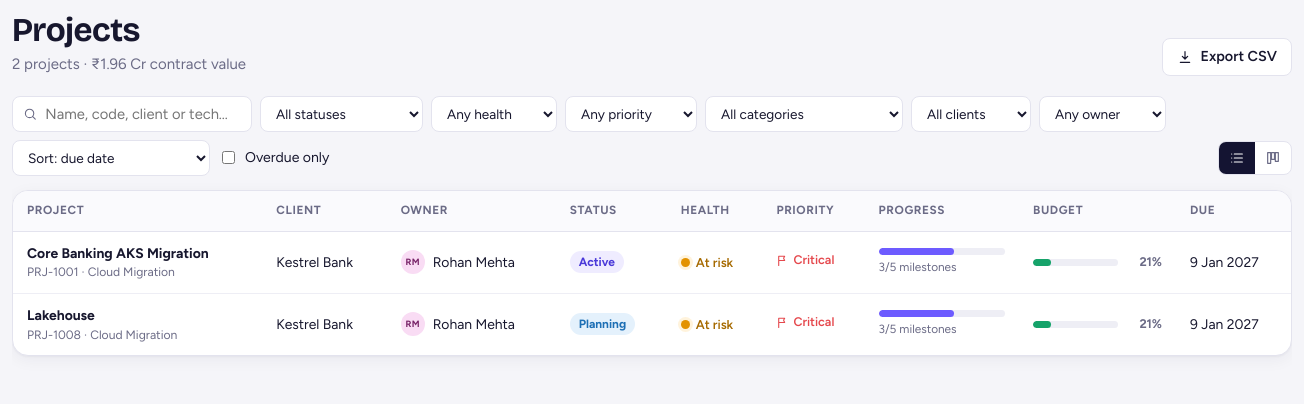
Test case: projects list › board view groups by status
The width and height of the screenshot is (1304, 404).
Click the button named "Board view".
click(1273, 158)  # box left=1255, top=142, right=1291, bottom=174
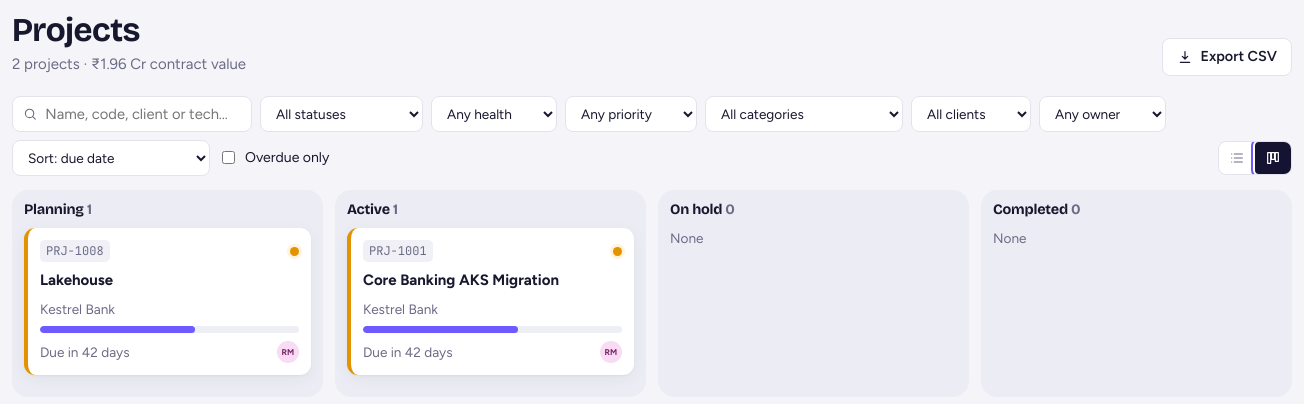
Expected: the heading "Planning 1" is shown, left=24, top=201, right=92, bottom=218
